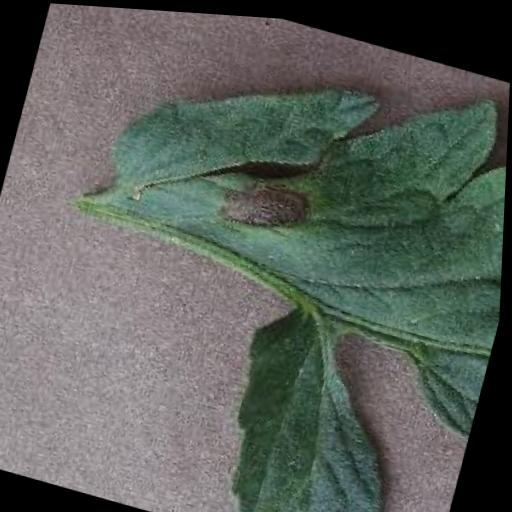Early Blight: (9, 1, 512, 512)
